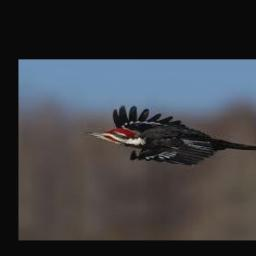Woodpecker: (84, 105, 256, 165)
